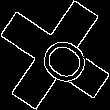O_NW: (22, 23, 88, 87)
